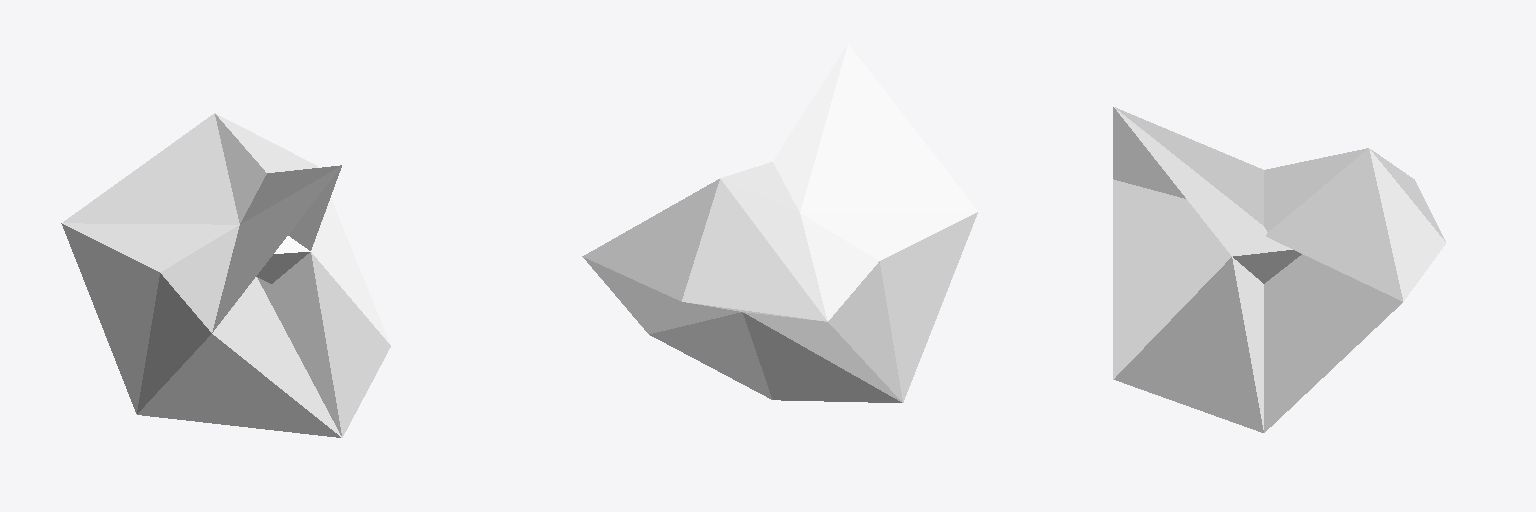
File: jagged3.obj
The picture shows the model from 3 angles: view 1: azimuth 30°, elevation 25°; view 2: azimuth 150°, elevation 25°; view 3: azimuth 270°, elevation 25°; orthographic projection.
Parts seen in each view (by area): view 1: Platonic; view 2: Platonic; view 3: Platonic.
Boxes of the visible parts, x1,y1,x2,y2 form: Platonic: [61, 113, 390, 437]; Platonic: [582, 44, 977, 402]; Platonic: [1113, 107, 1445, 432].
Bounding box in the file's own units: 25.93 × 29.38 × 29.38.